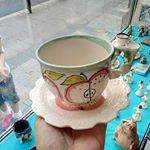cups: (35, 32, 131, 114)
